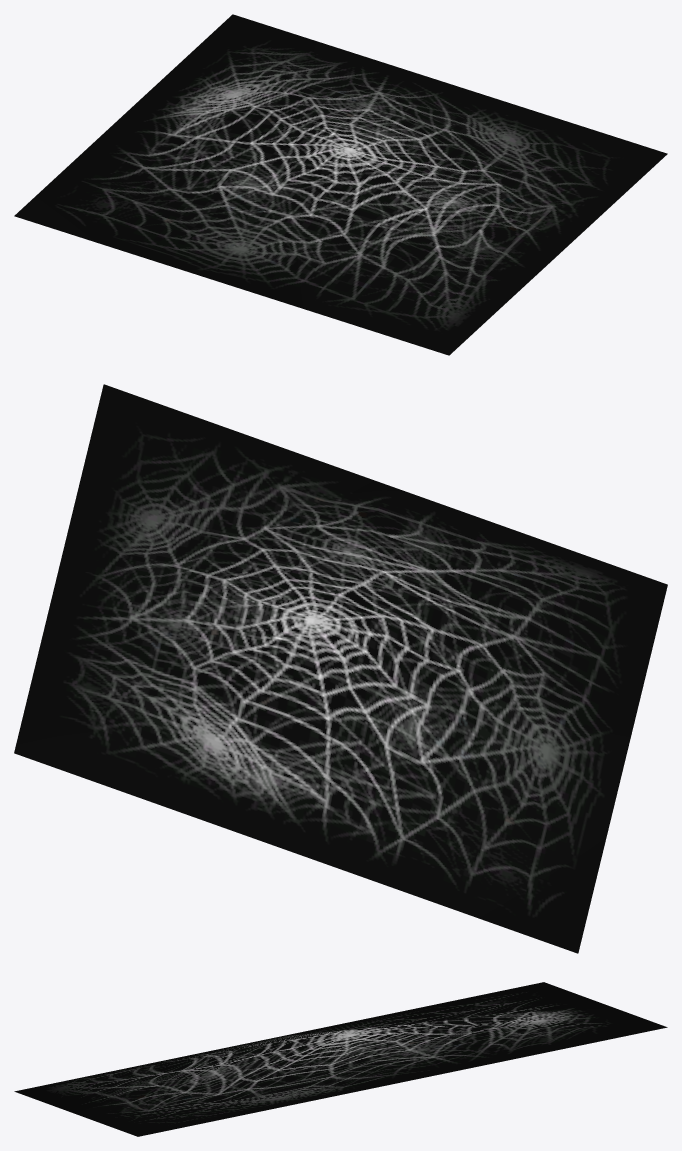
Rendered from MIRKWOOD_PLANE37.fbx.
3 views of the same model, one above another, from view 1: azimuth 30°, elevation 25°; view 2: azimuth 150°, elevation 25°; view 3: azimuth 270°, elevation 25° (orthographic). The views are drawn at different scales.
Visible parts, largest first — view 1: MIRKWOOD_PLANE37; view 2: MIRKWOOD_PLANE37; view 3: MIRKWOOD_PLANE37.
Part boxes in pixels (<box>): MIRKWOOD_PLANE37: <box>14,14,667,355</box>; MIRKWOOD_PLANE37: <box>14,384,667,953</box>; MIRKWOOD_PLANE37: <box>14,982,667,1136</box>.
Size of the model in its own units: 165090 by 33889 by 184417.
Materials: 1 (1 with a texture image).
